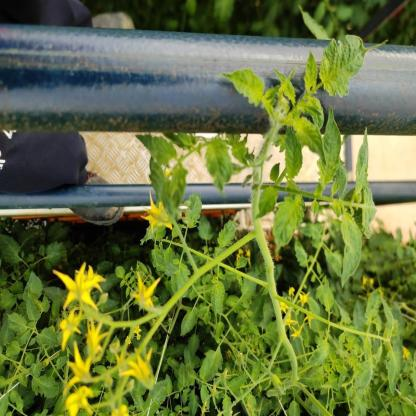T_L_R: (320, 36, 369, 98), (319, 109, 342, 187)
T_S_H: (253, 184, 299, 385)
